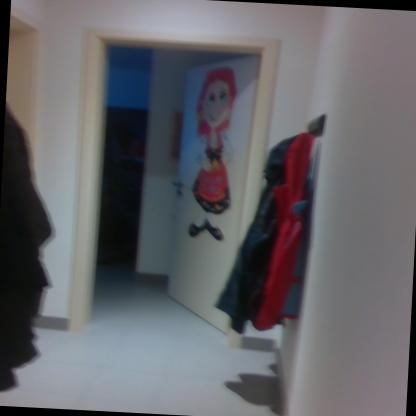semi: (62, 15, 290, 352)
